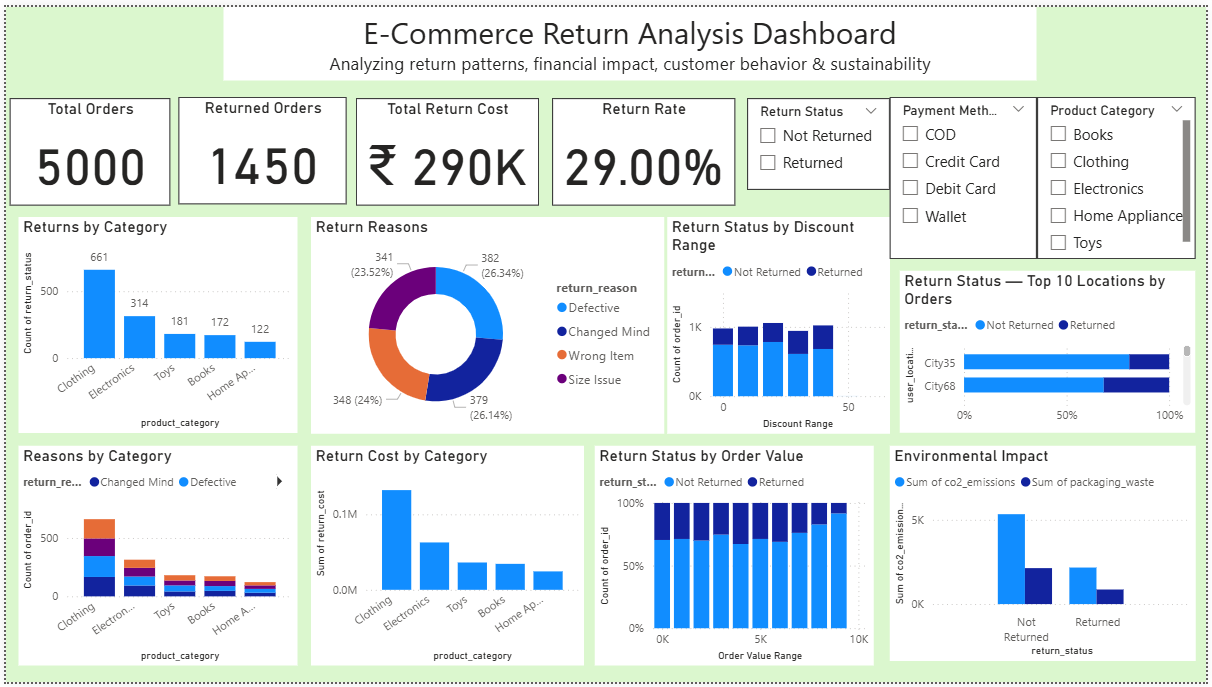

The dashboard page shown, as its layout file describes it:
{"tool":"powerbi","page":{"name":"Page 1","canvas":[1280,720],"ordinal":0},"visuals":[{"type":"card","title":"Total Return Cost","fields":{"Values":["Sum(public ecommerce_returns.return_cost)"]},"box":[372.7,97.4,194.8,114.3],"z":0},{"type":"card","title":"Returned Orders","fields":{"Values":["CountNonNull(public ecommerce_returns.order_id)"]},"box":[184.4,96.1,179.2,114.3],"z":1000},{"type":"clusteredColumnChart","title":"Returns by Category","fields":{"Category":["public ecommerce_returns.product_category"],"Y":["CountNonNull(public ecommerce_returns.return_status)"]},"box":[13.7,223.7,297.8,230.5],"z":2000},{"type":"donutChart","title":"Return Reasons","fields":{"Category":["public ecommerce_returns.return_reason"],"Y":["CountNonNull(public ecommerce_returns.order_id)"]},"box":[324.7,223.4,376.6,231.2],"z":3000},{"type":"columnChart","title":"Return Status by Discount Range","fields":{"Category":["public ecommerce_returns.discount_applied (bins) 2"],"Y":["CountNonNull(public ecommerce_returns.order_id)"],"Series":["public ecommerce_returns.return_status"]},"box":[705.2,223.4,237.7,231.2],"z":4000},{"type":"clusteredColumnChart","title":"Return Cost by Category","fields":{"Category":["public ecommerce_returns.product_category"],"Y":["Sum(public ecommerce_returns.return_cost)"]},"box":[325.2,467.9,290.9,234.6],"z":5000},{"type":"columnChart","title":"Reasons by Category","fields":{"Category":["public ecommerce_returns.product_category"],"Y":["CountNonNull(public ecommerce_returns.order_id)"],"Series":["public ecommerce_returns.return_reason"]},"box":[13.7,467.9,297.8,234.6],"z":6000},{"type":"hundredPercentStackedBarChart","title":"Return Status — Top 10 Locations by Orders","fields":{"Y":["CountNonNull(public ecommerce_returns.order_id)"],"Category":["public ecommerce_returns.user_location"],"Series":["public ecommerce_returns.return_status"]},"box":[953.2,281.8,315.6,172.7],"z":7000},{"type":"clusteredColumnChart","title":"Environmental Impact","fields":{"Category":["public ecommerce_returns.return_status"],"Y":["Sum(public ecommerce_returns.co2_emissions)","Sum(public ecommerce_returns.packaging_waste)"]},"box":[942.8,468.3,326.5,229.9],"z":8000},{"type":"hundredPercentStackedColumnChart","title":"Return Status by Order Value","fields":{"Category":["public ecommerce_returns.order_value (bins)"],"Y":["CountNonNull(public ecommerce_returns.order_id)"],"Series":["public ecommerce_returns.return_status"]},"box":[628.5,467.9,297.8,234.6],"z":9000},{"type":"slicer","fields":{"Values":["public ecommerce_returns.product_category"]},"box":[1100,96.1,168.8,172.7],"z":10000},{"type":"slicer","fields":{"Values":["public ecommerce_returns.return_status"]},"box":[790.9,97.4,151.9,97.4],"z":11000},{"type":"slicer","fields":{"Values":["public ecommerce_returns.payment_method"]},"box":[942.9,96.1,157.1,172.7],"z":12000},{"type":"textbox","box":[231.9,0,867.2,78.2],"z":13000},{"type":"card","title":"Total Orders","fields":{"Values":["CountNonNull(public ecommerce_returns.order_id)"]},"box":[3.9,97.4,171.4,114.3],"z":14000},{"type":"card","title":"Return Rate","fields":{"Values":["public ecommerce_returns.ReturnRate"]},"box":[583.1,97.4,194.8,114.3],"z":15000}]}

Visuals, with their boxes in screenshot pixels (x1, y1, x2, y2), scaled from the page's 1280x720 canvas onto the 1212x687 screenshot:
"Total Return Cost" card: (left=353, top=93, right=537, bottom=202)
"Returned Orders" card: (left=175, top=92, right=344, bottom=201)
"Returns by Category" clusteredColumnChart: (left=13, top=213, right=295, bottom=433)
"Return Reasons" donutChart: (left=307, top=213, right=664, bottom=434)
"Return Status by Discount Range" columnChart: (left=668, top=213, right=893, bottom=434)
"Return Cost by Category" clusteredColumnChart: (left=308, top=446, right=583, bottom=670)
"Reasons by Category" columnChart: (left=13, top=446, right=295, bottom=670)
"Return Status — Top 10 Locations by Orders" hundredPercentStackedBarChart: (left=903, top=269, right=1201, bottom=434)
"Environmental Impact" clusteredColumnChart: (left=893, top=447, right=1202, bottom=666)
"Return Status by Order Value" hundredPercentStackedColumnChart: (left=595, top=446, right=877, bottom=670)
slicer - public ecommerce_returns.product_category: (left=1042, top=92, right=1201, bottom=256)
slicer - public ecommerce_returns.return_status: (left=749, top=93, right=893, bottom=186)
slicer - public ecommerce_returns.payment_method: (left=893, top=92, right=1042, bottom=256)
textbox: (left=220, top=0, right=1041, bottom=75)
"Total Orders" card: (left=4, top=93, right=166, bottom=202)
"Return Rate" card: (left=552, top=93, right=737, bottom=202)
